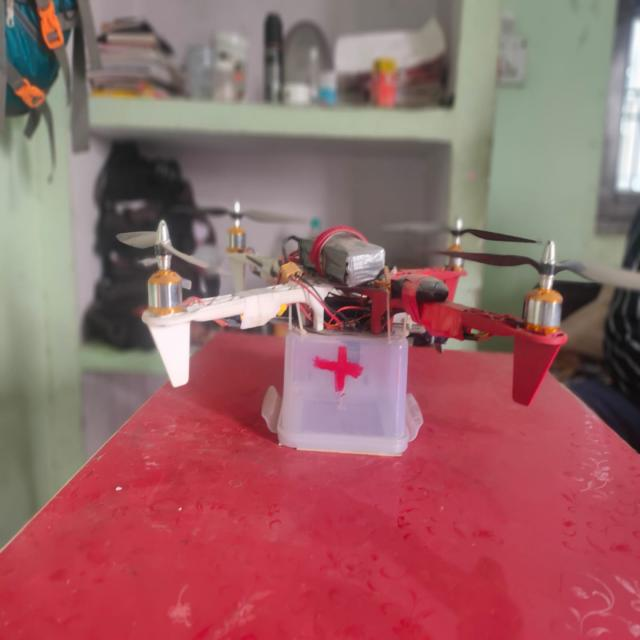Drone: (106, 146, 605, 464)
